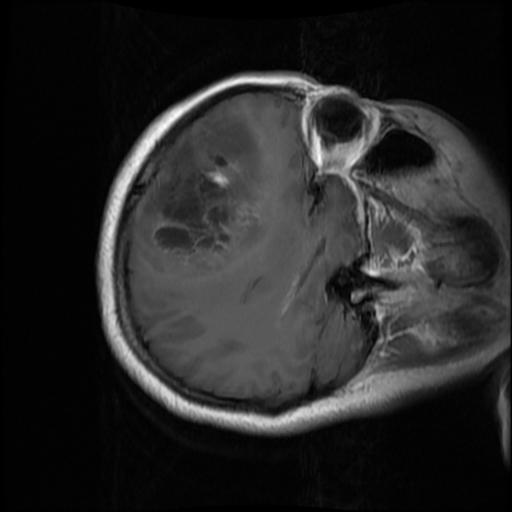glioma: (129, 103, 265, 277)
